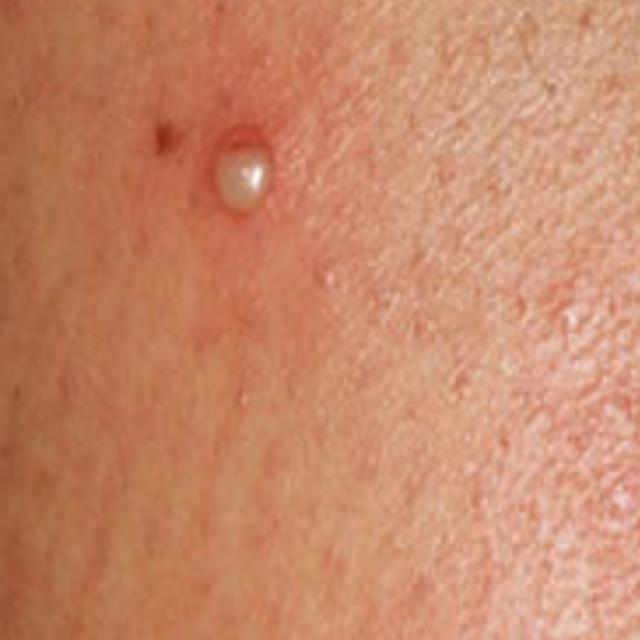blackheads: (194, 110, 285, 224)
